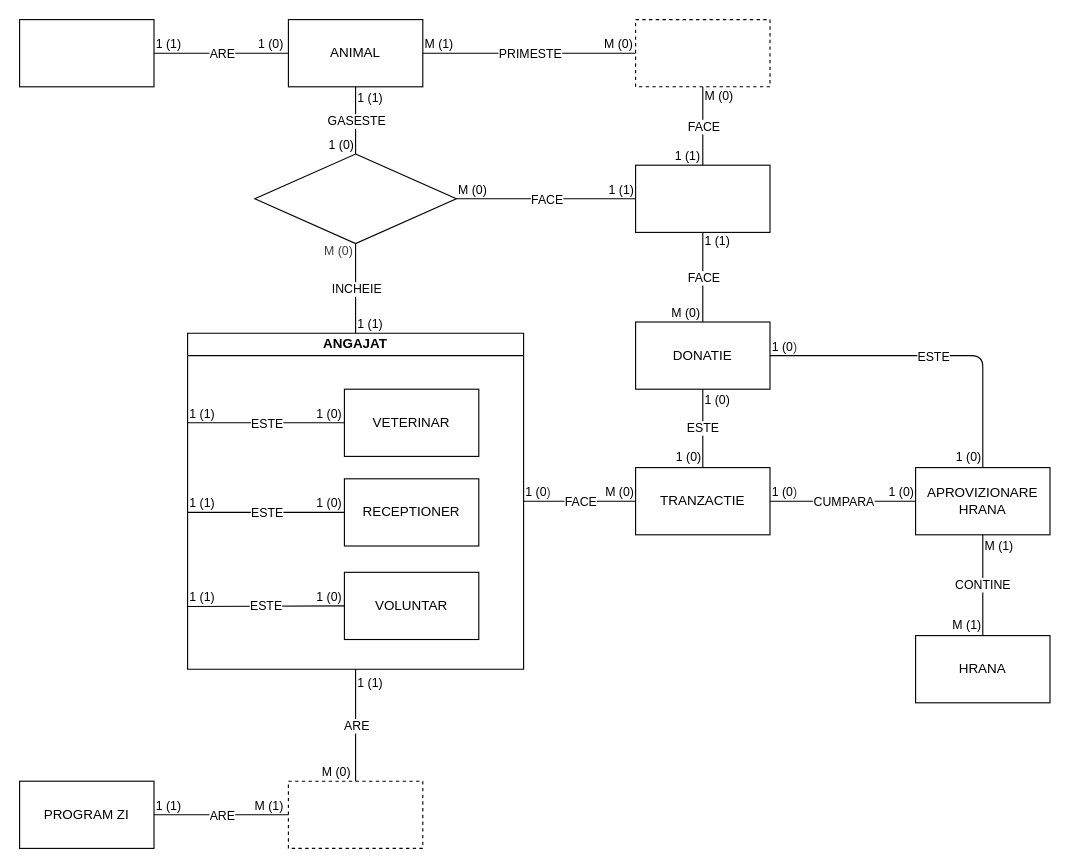
The diagram is 1070 pixels wide and 868 high, and some of its shapes have lost their labels. The shapes that lost their labels are listed below. From the top down, each one's centre as x and y in pixels, then its label:
At [86,52]: "CUSCA".
At [702,52]: "VIZITA".
At [355,198]: "ADOPTIE".
At [702,198]: "CLIENT".
At [355,814]: "TURA".
